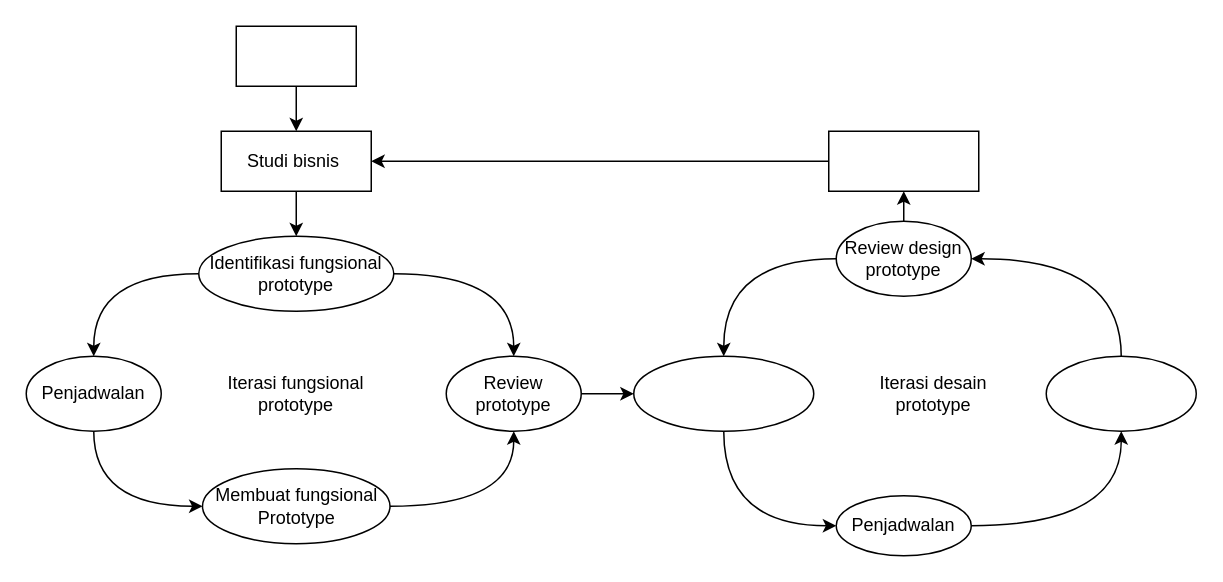
Some shapes in this 1223 by 582 pixel diagram are drawn without their labels. The shapes that lost their labels are listed below. From the top down, each one's centre as x and y in pixels, then its label:
At (x=295, y=55): "Studi kelayakan".
At (x=903, y=160): "Implementasi".
At (x=723, y=393): "Identifikasi desain prototype".
At (x=1120, y=393): "Membuat desain prototype".
